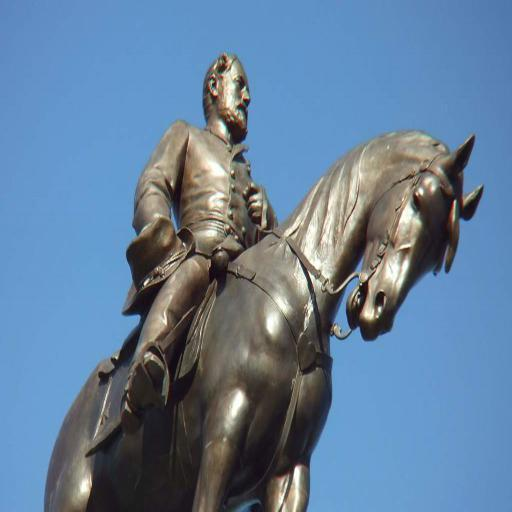horse: (44, 130, 486, 512)
